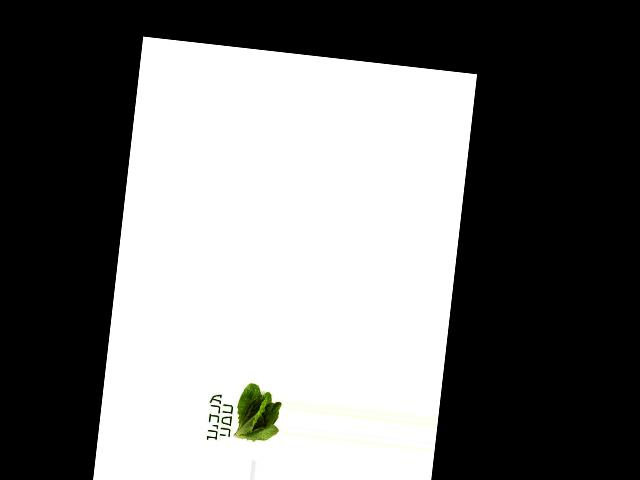lettuce: (228, 380, 283, 447)
